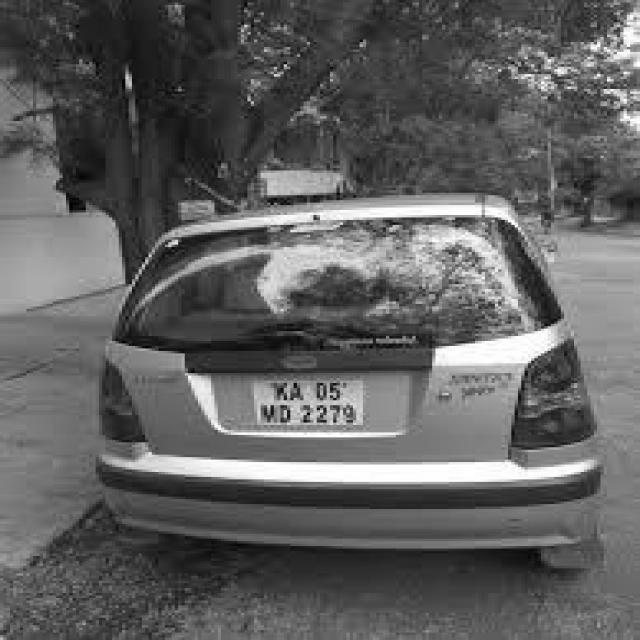car: (96, 185, 610, 586)
license-plate: (257, 376, 363, 428)
